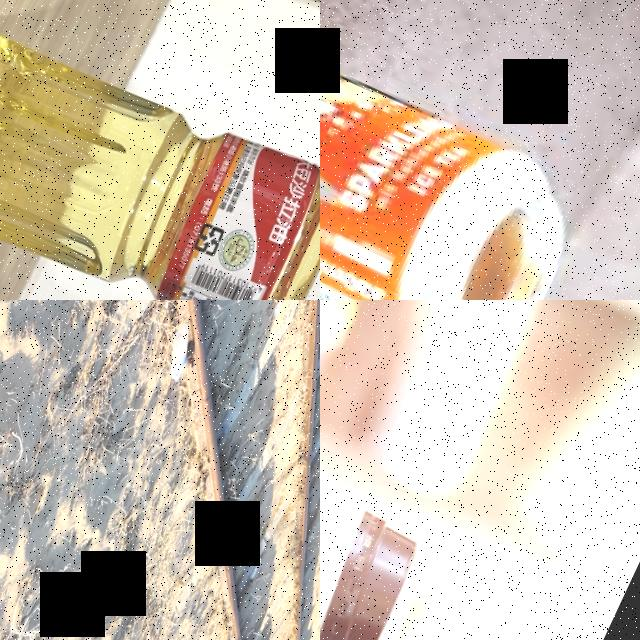bottle: (0, 0, 320, 300)
cup: (320, 411, 429, 640)
